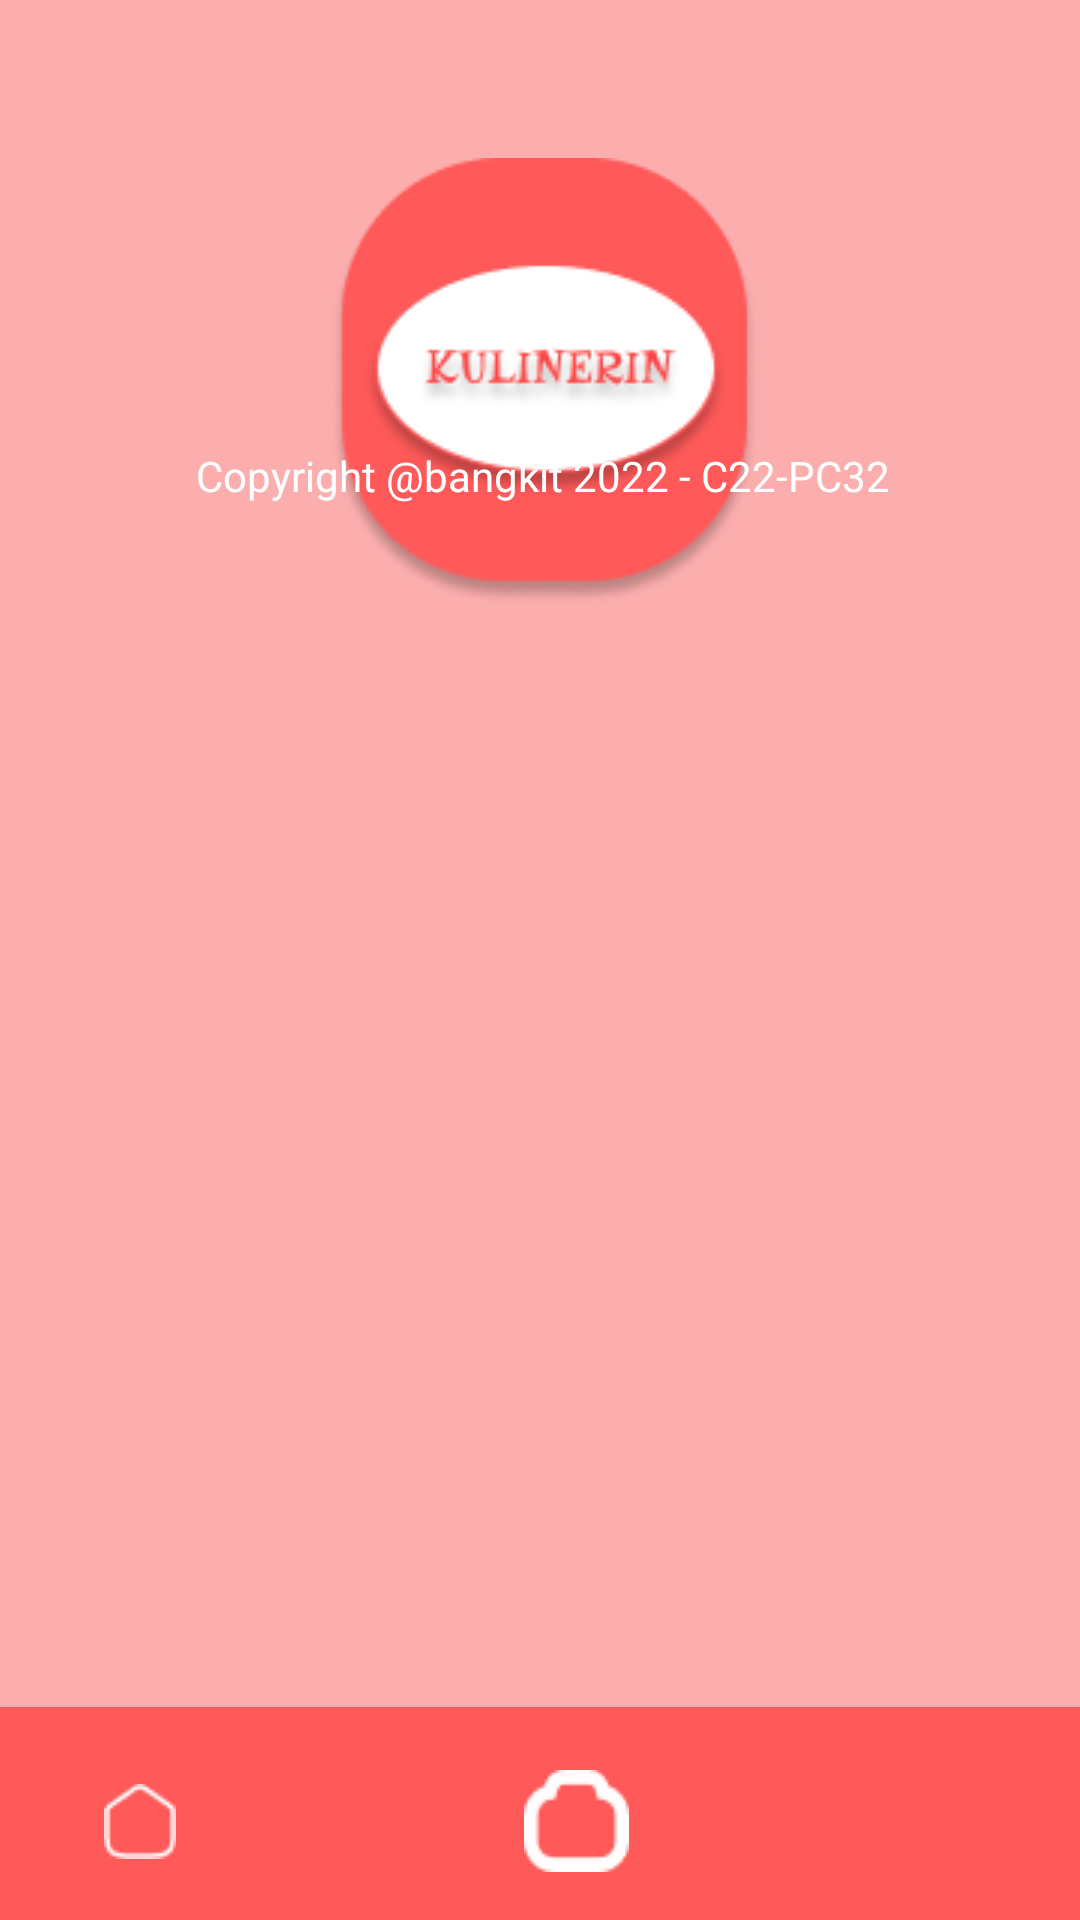

Screen size 1080px x 1920px. Icon name, then its box in pixels as (x1, y1, x2, y2):
camera: (524, 1770, 629, 1872)
home: (104, 1784, 176, 1859)
